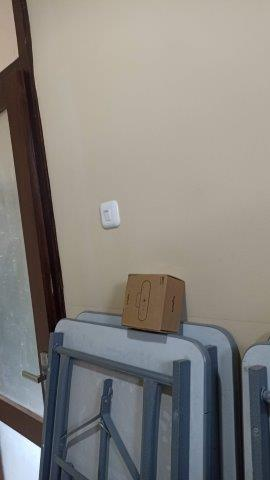kardus: (121, 275, 184, 331)
